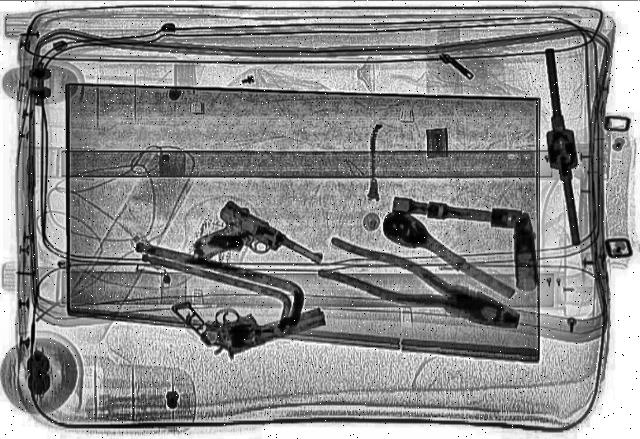Gun: (170, 198, 334, 300), (172, 271, 336, 365)
Pliers: (304, 235, 540, 343)
